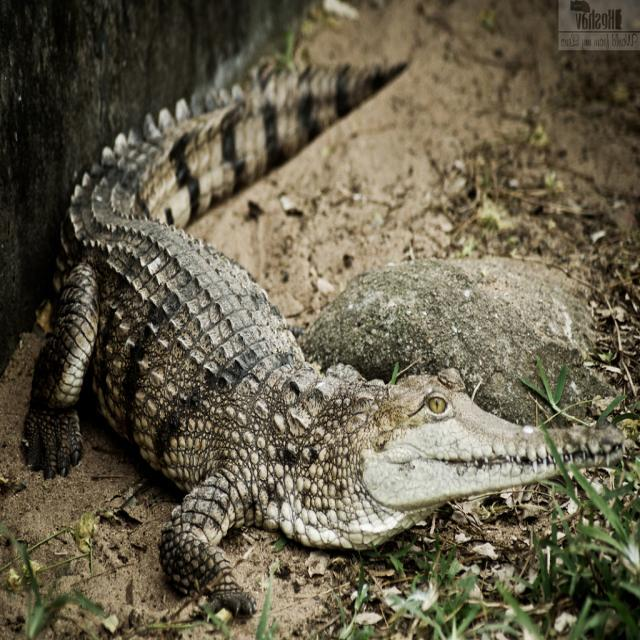crocodile: (15, 60, 625, 619)
